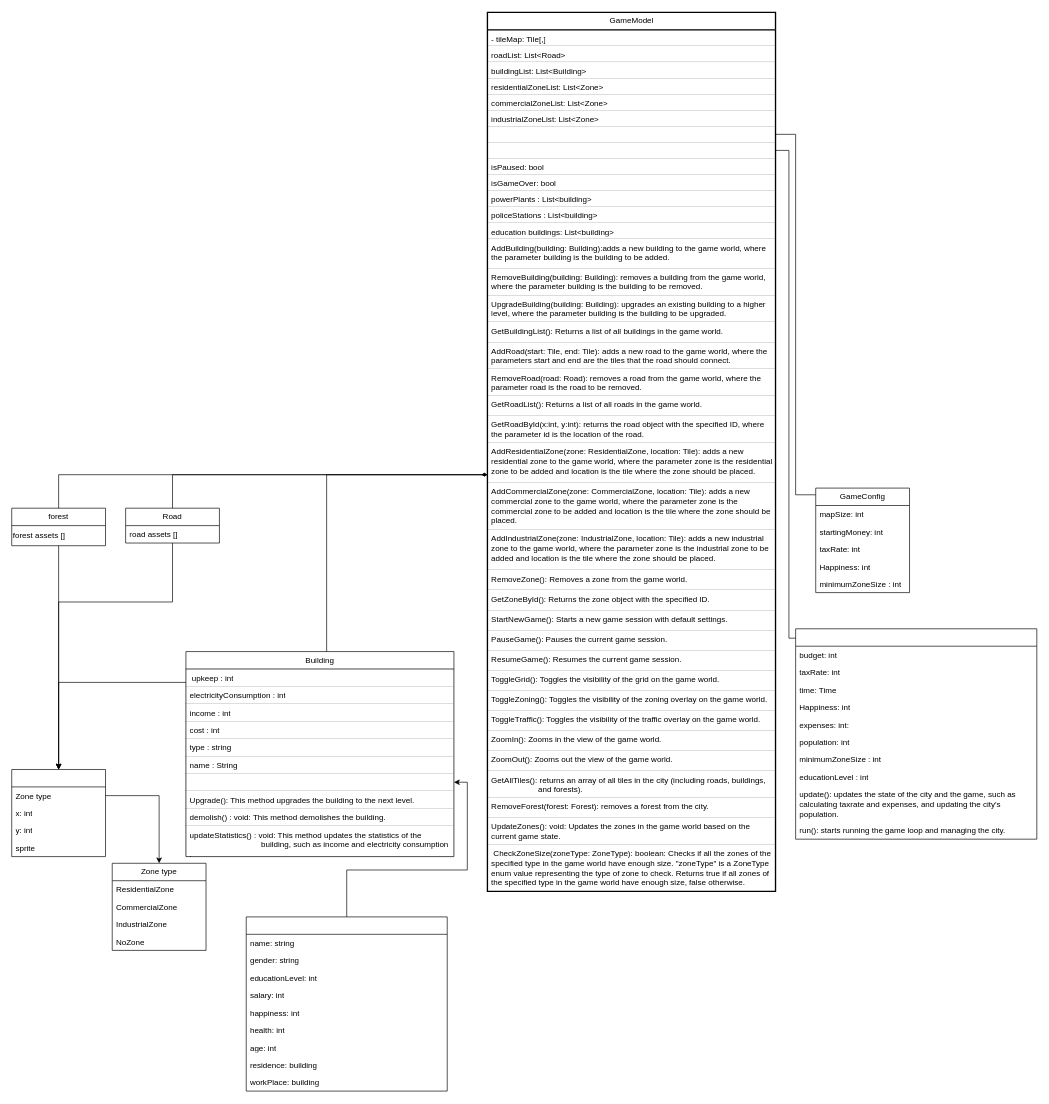
Some shapes in this 1049 by 1104 pixel diagram are drawn without their labels. Here are the shapes that lost their labels. From the top down, the box of each, then its label:
(487, 126, 775, 142): gameConfig: GameConfig
(487, 142, 775, 158): gameLogic : gameLogic
(795, 628, 1037, 839): CityLogic
(186, 773, 454, 791): Citizens: List<;CItizen>
(11, 769, 106, 857): Tile Object
(246, 916, 447, 1091): Citizen
